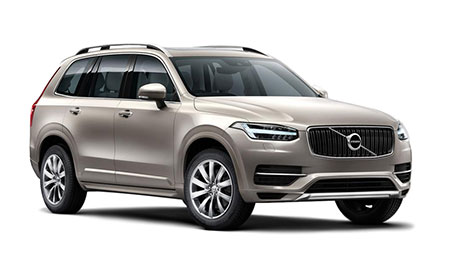pickup: (29, 43, 411, 229)
